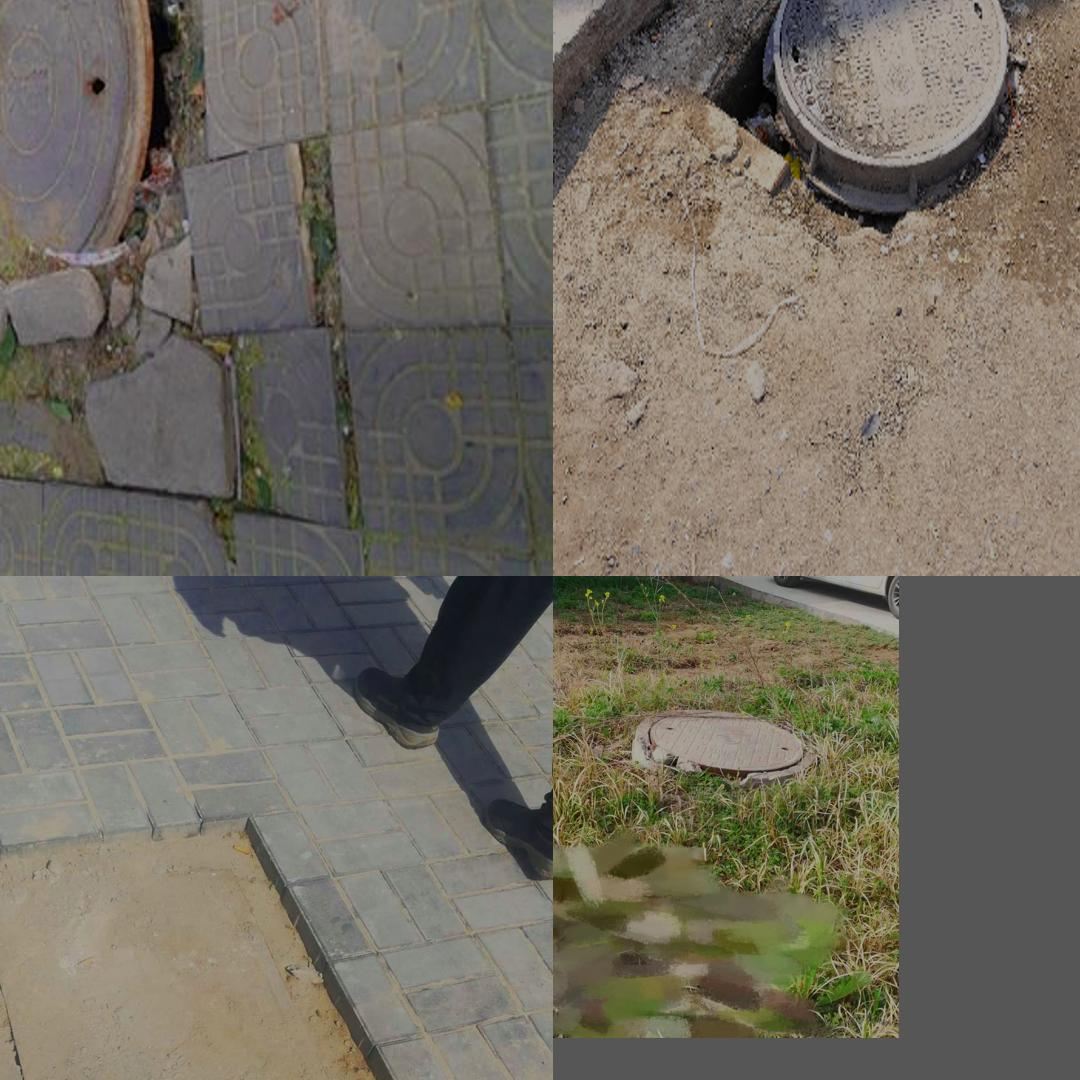circle: (0, 0, 239, 506), (0, 838, 474, 1080), (727, 0, 1022, 225), (633, 704, 827, 788)
